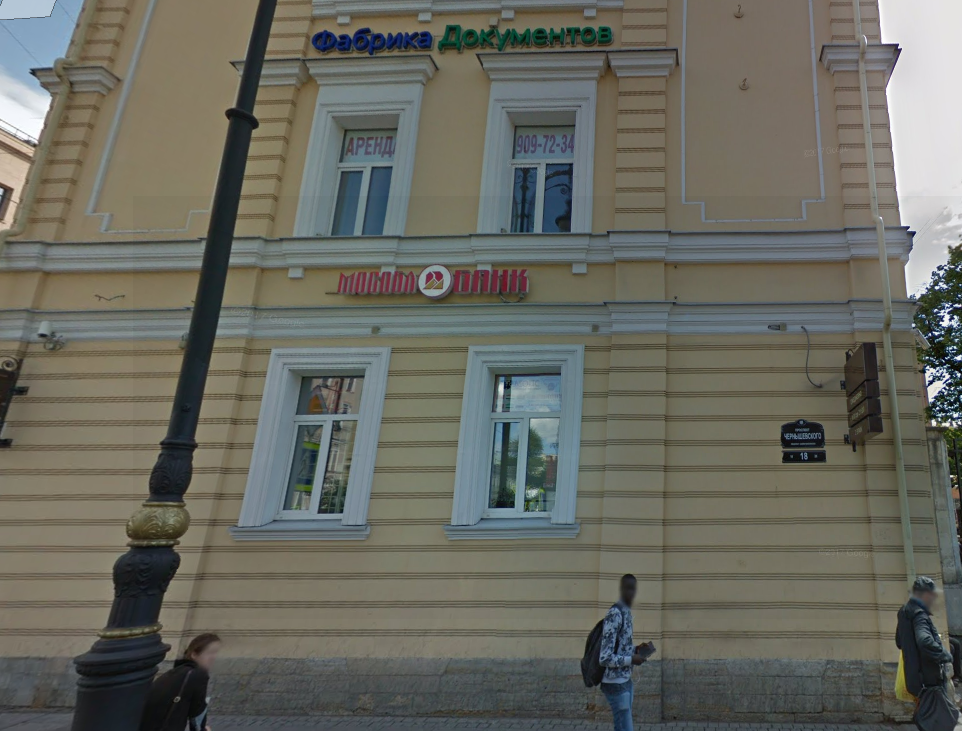signboard: (308, 21, 612, 51), (334, 260, 532, 303)
window: (275, 376, 363, 519), (484, 370, 563, 518), (330, 128, 396, 234), (511, 122, 572, 234)
